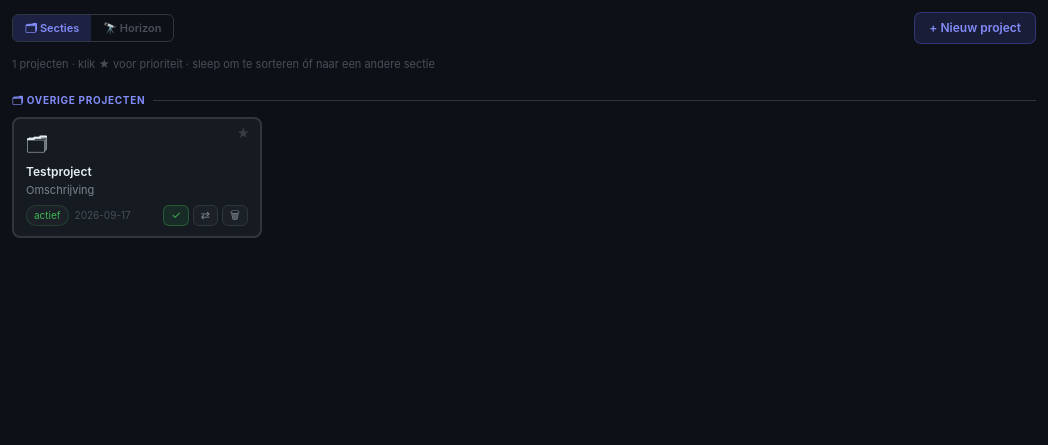
Test case: ProjectsTab — horizon-weergave › een project met een deadline dichtbij staat in Nu, ook al staat het opgeslagen horizon op jaar
Click the button "🔭 Horizon": [132, 28] box 91,15 -> 174,41
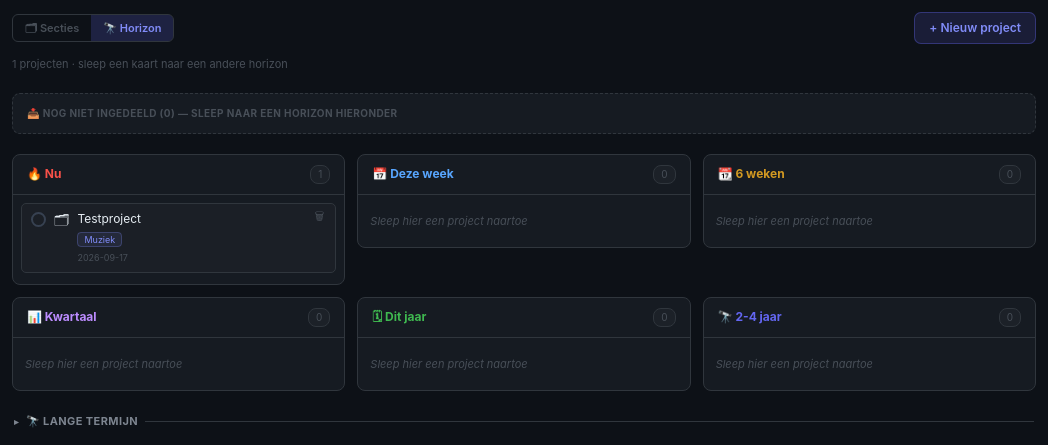
Result: the element showing "🔥 Nu 1 🗂 Testproject Muziek 2026-09-17 🗑" is shown at 12,154 -> 345,285
